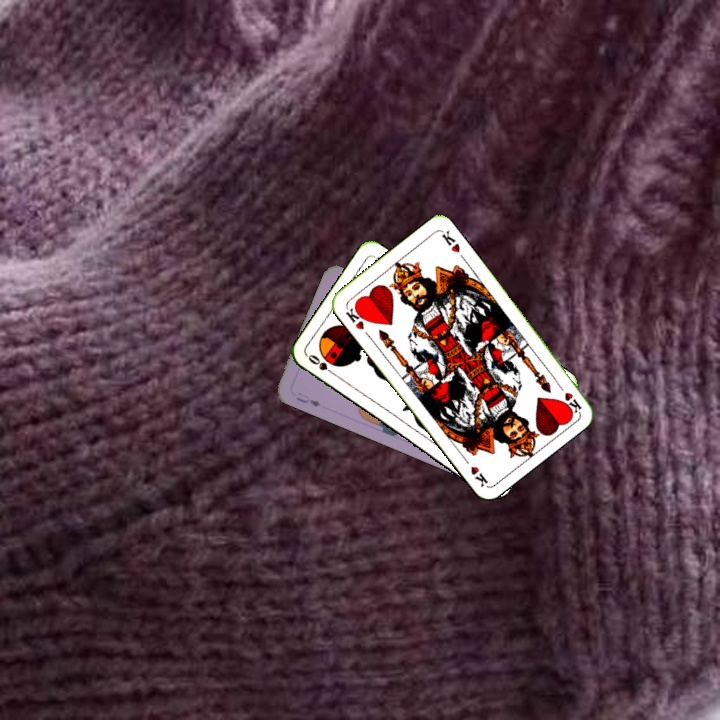EU: (292, 388, 323, 409)
HK: (552, 378, 584, 415), (341, 301, 370, 332)
SO: (304, 350, 340, 379)
